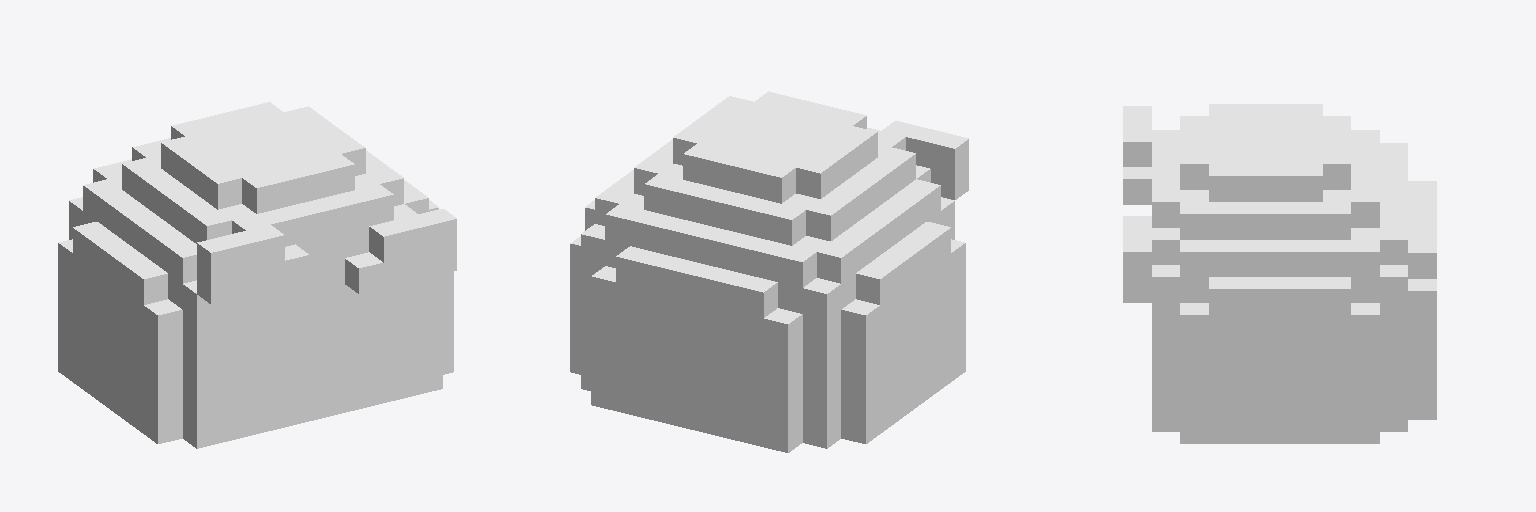
File: BenRock_lookright.obj
The picture shows the model from 3 angles: view 1: azimuth 30°, elevation 25°; view 2: azimuth 150°, elevation 25°; view 3: azimuth 270°, elevation 25°; orthographic projection.
Visible parts, largest first — view 1: object 1; view 2: object 1; view 3: object 1.
Boxes of the visible parts, x1,y1,x2,y2 form: object 1: [58, 102, 456, 448]; object 1: [570, 91, 968, 452]; object 1: [1123, 104, 1436, 443].
Bounding box in the file's own units: 1.2 × 0.9 × 1.1.